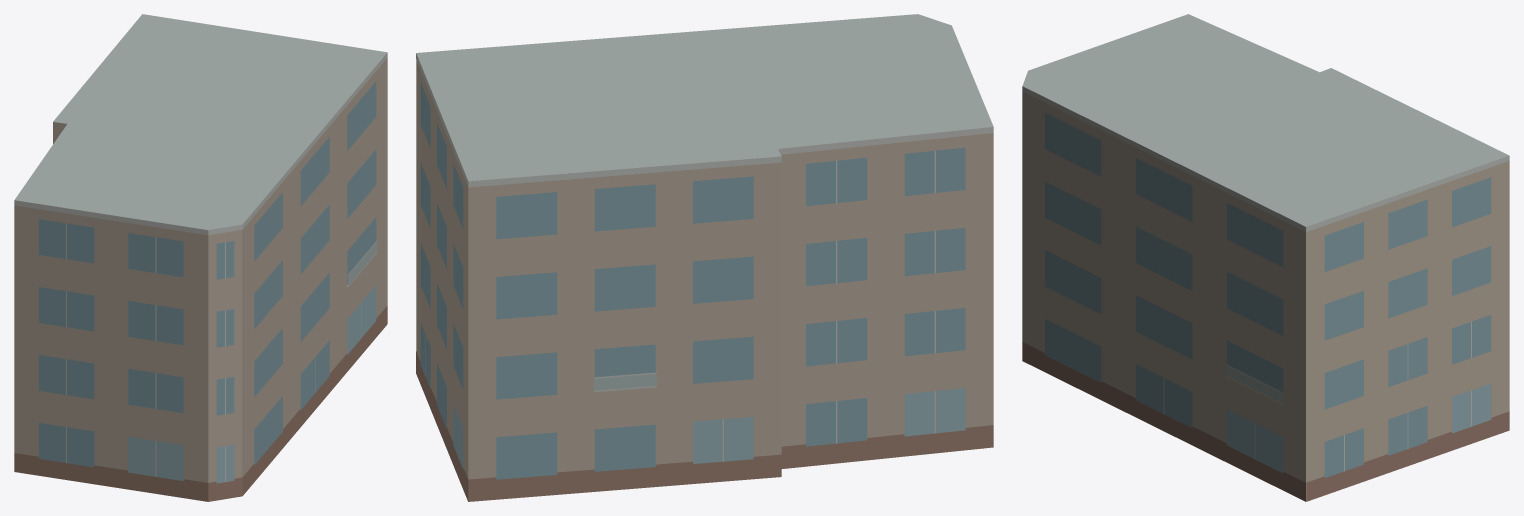
File: survey-upis-32995479.glb
The picture shows the model from 3 angles, left to right: view 1: azimuth 30°, elevation 25°; view 2: azimuth 150°, elevation 25°; view 3: azimuth 270°, elevation 25°; orthographic projection. The views are drawn at different scales.
Visible parts, largest first — view 1: survey-upis-32995479.tmp; view 2: survey-upis-32995479.tmp; view 3: survey-upis-32995479.tmp.
Part boxes in pixels (x1,y1,x2,y2): survey-upis-32995479.tmp: (14, 14, 387, 501); survey-upis-32995479.tmp: (416, 14, 993, 501); survey-upis-32995479.tmp: (1022, 14, 1509, 501).
Bounding box in the file's own units: 21.45 × 12.9 × 20.73.
